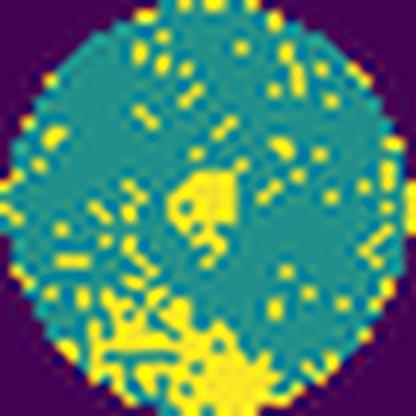Edge-Loc: (84, 230, 309, 415)
